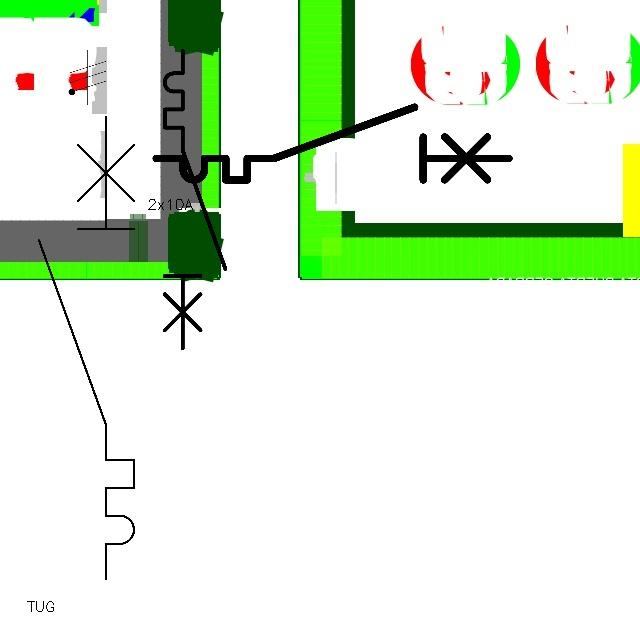interruptor_termomagnetico: (27, 105, 146, 591), (147, 98, 518, 189), (157, 43, 233, 356)
